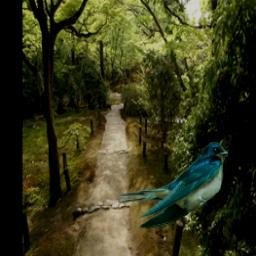Swallow: (119, 142, 229, 230)
